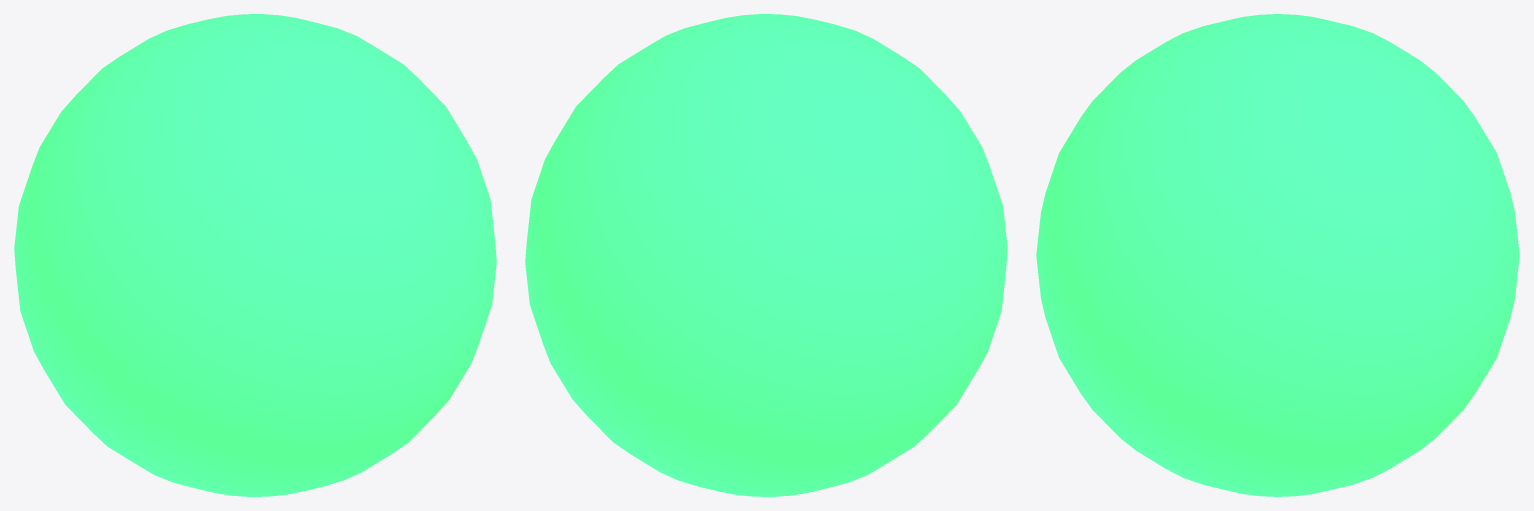
The model's file is filtro-de-ar.glb.
3 views of the same model, side by side, from view 1: azimuth 30°, elevation 25°; view 2: azimuth 150°, elevation 25°; view 3: azimuth 270°, elevation 25° (orthographic).
Visible parts, largest first — view 1: Sphere.003; view 2: Sphere.003; view 3: Sphere.003.
Part boxes in pixels (x1=…): Sphere.003: x1=14, y1=14, x2=496, y2=496; Sphere.003: x1=525, y1=14, x2=1007, y2=496; Sphere.003: x1=1036, y1=14, x2=1519, y2=496.
Size of the model in its own units: 5.15 by 5.15 by 5.15.
